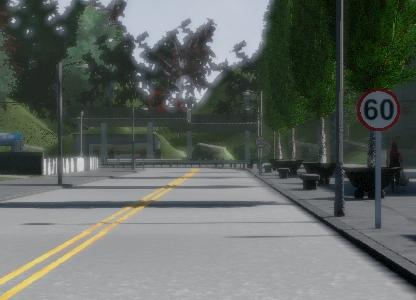Speed_60: (357, 87, 401, 135)
